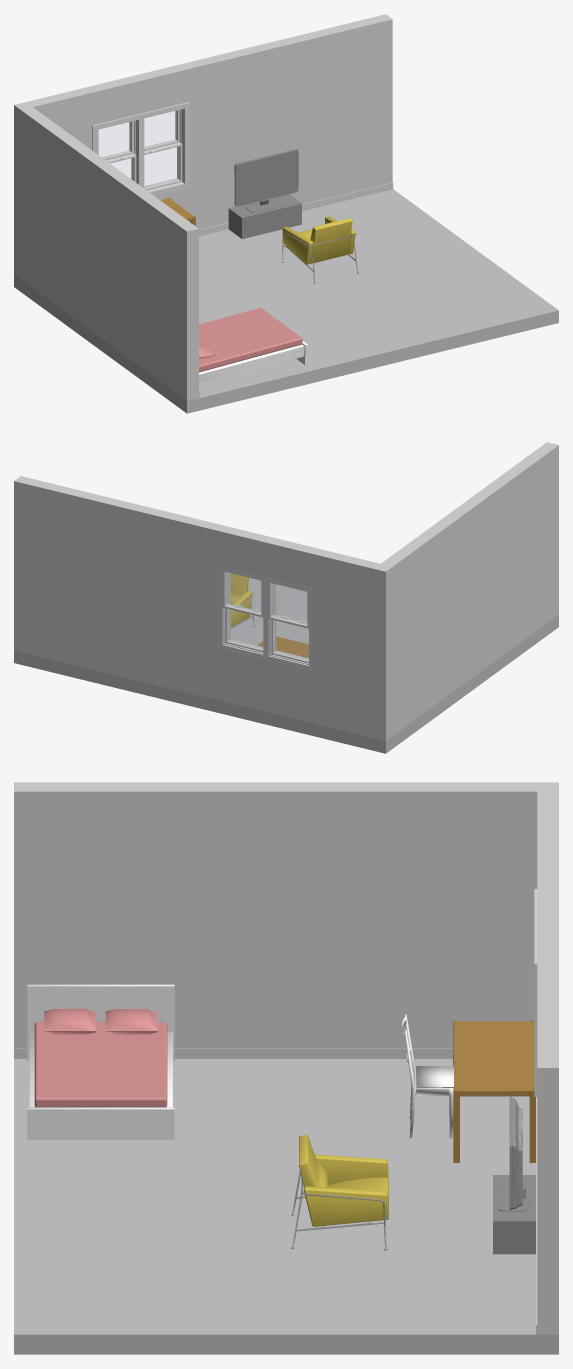
File: L16_W20_furniture3_daylight1.glb
The picture shows the model from 3 angles, top to bottom: view 1: azimuth 30°, elevation 25°; view 2: azimuth 150°, elevation 25°; view 3: azimuth 270°, elevation 25°; orthographic projection. The views are drawn at different scales.
Size of the model in its own units: 248 by 116 by 200.
